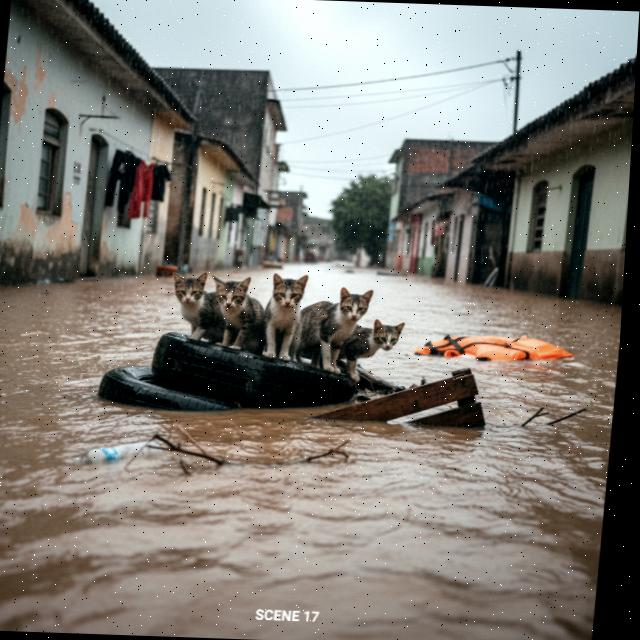cat: (166, 270, 268, 350), (294, 278, 375, 376), (198, 271, 279, 355), (339, 311, 410, 384), (257, 270, 309, 366)
